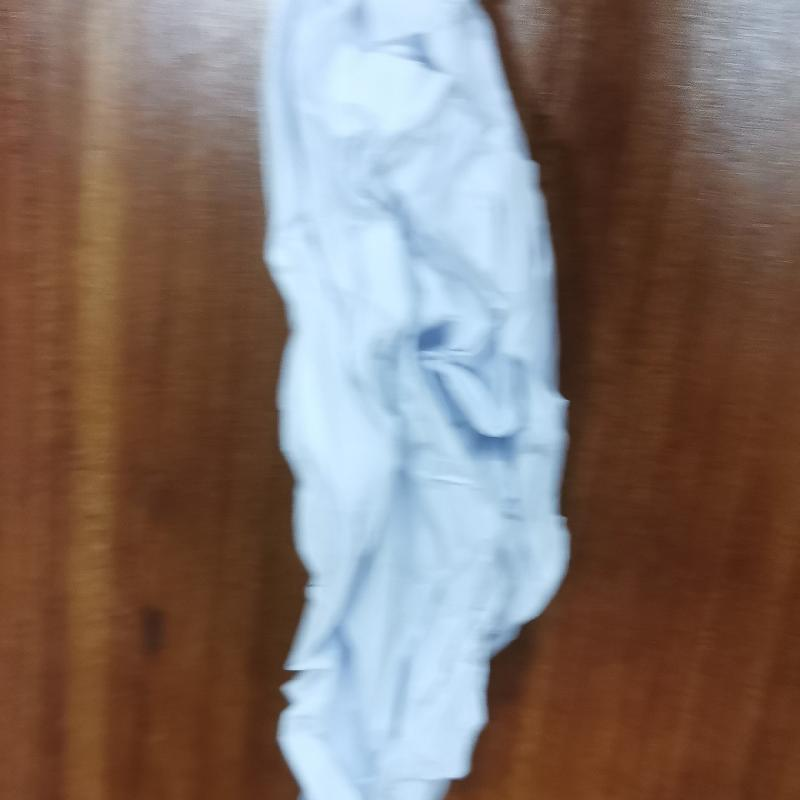spitball: (249, 3, 580, 799)
